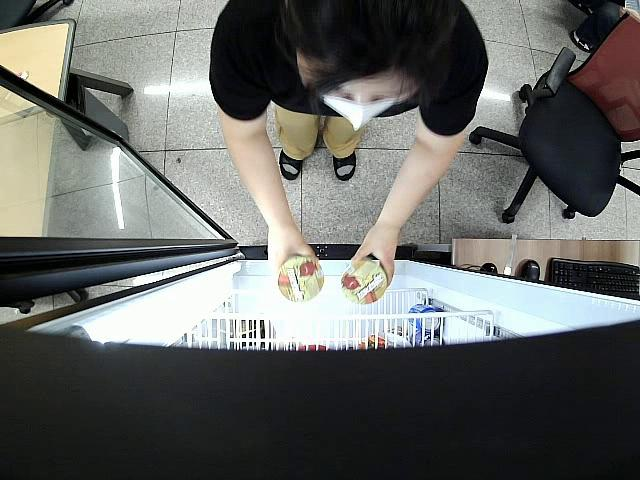00_hand: (349, 225, 396, 291), (266, 226, 321, 279)
04_chapagetti_S: (276, 254, 326, 304), (341, 259, 389, 304)
